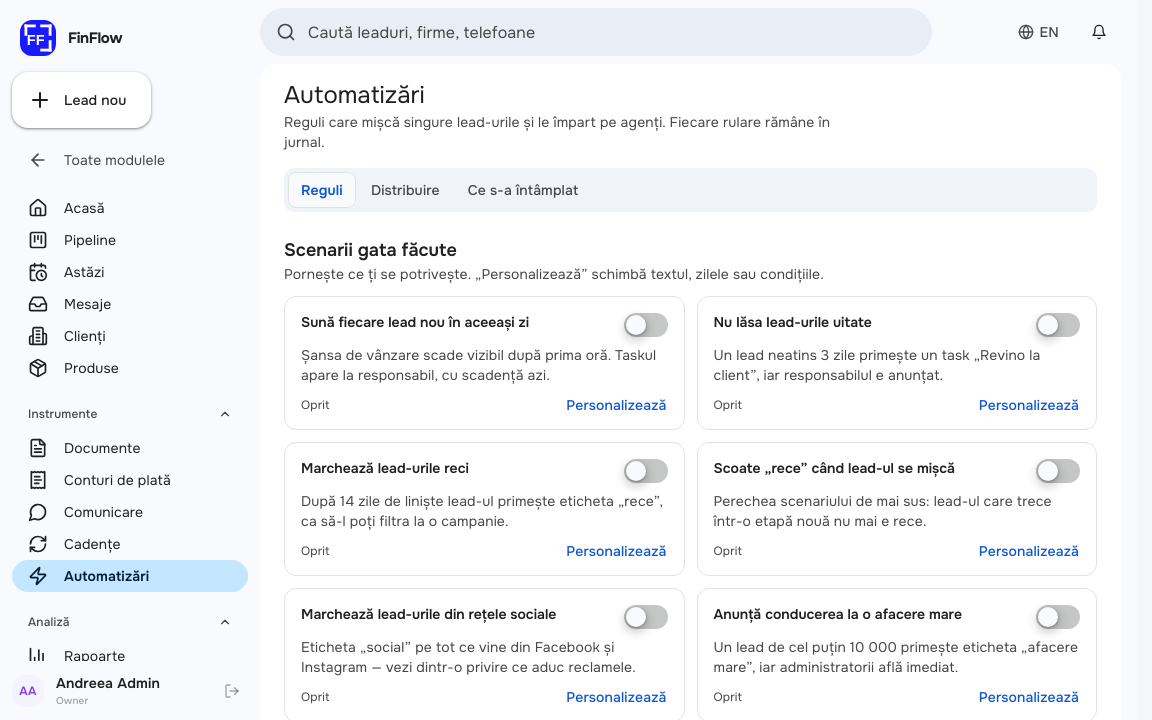
Test: scenariile gata făcute › „Personalizează” deschide editorul completat, cu fraza de control
The width and height of the screenshot is (1152, 720).
Check: the heading "Scenarii gata făcute" is shown, box [284,239,457,261]
Step 1. Click the button "Personalizează" below "Nu lăsa lead-urile uitate" → [1029, 405], box [978,397,1080,413]
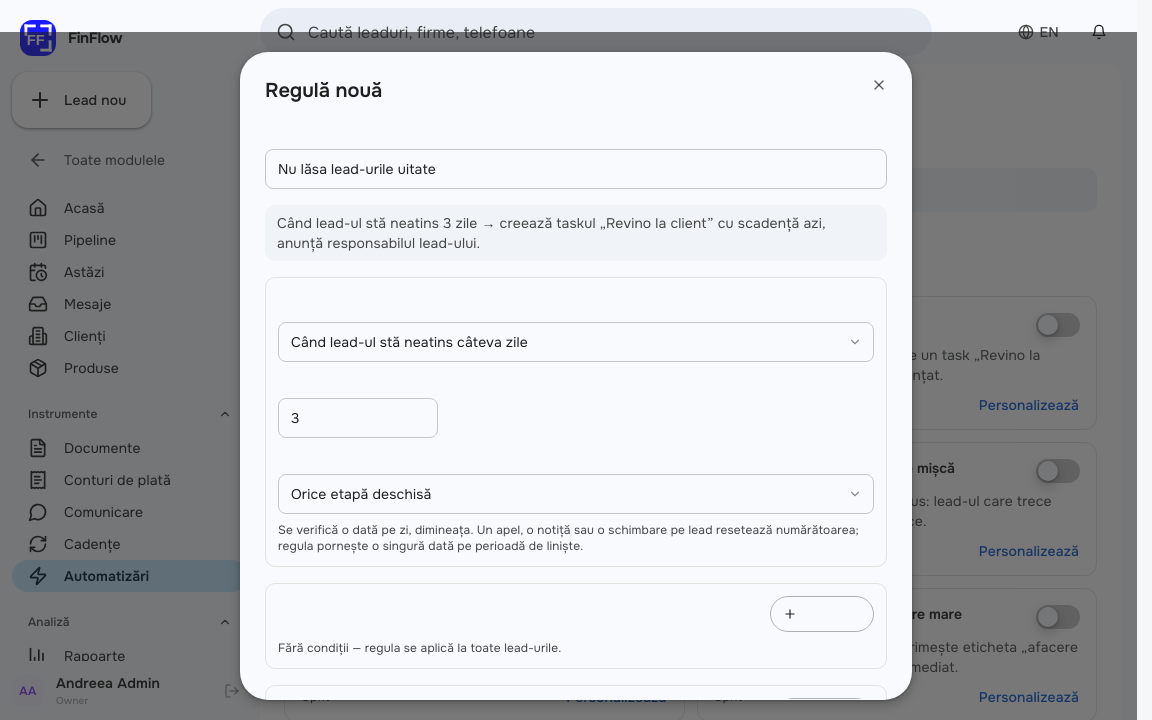
Check: the number field labelled "După câte zile" holds "3", box [278,398,438,438]
Check: the text "stă neatins 3 zile" is shown, box [277,214,826,252]
